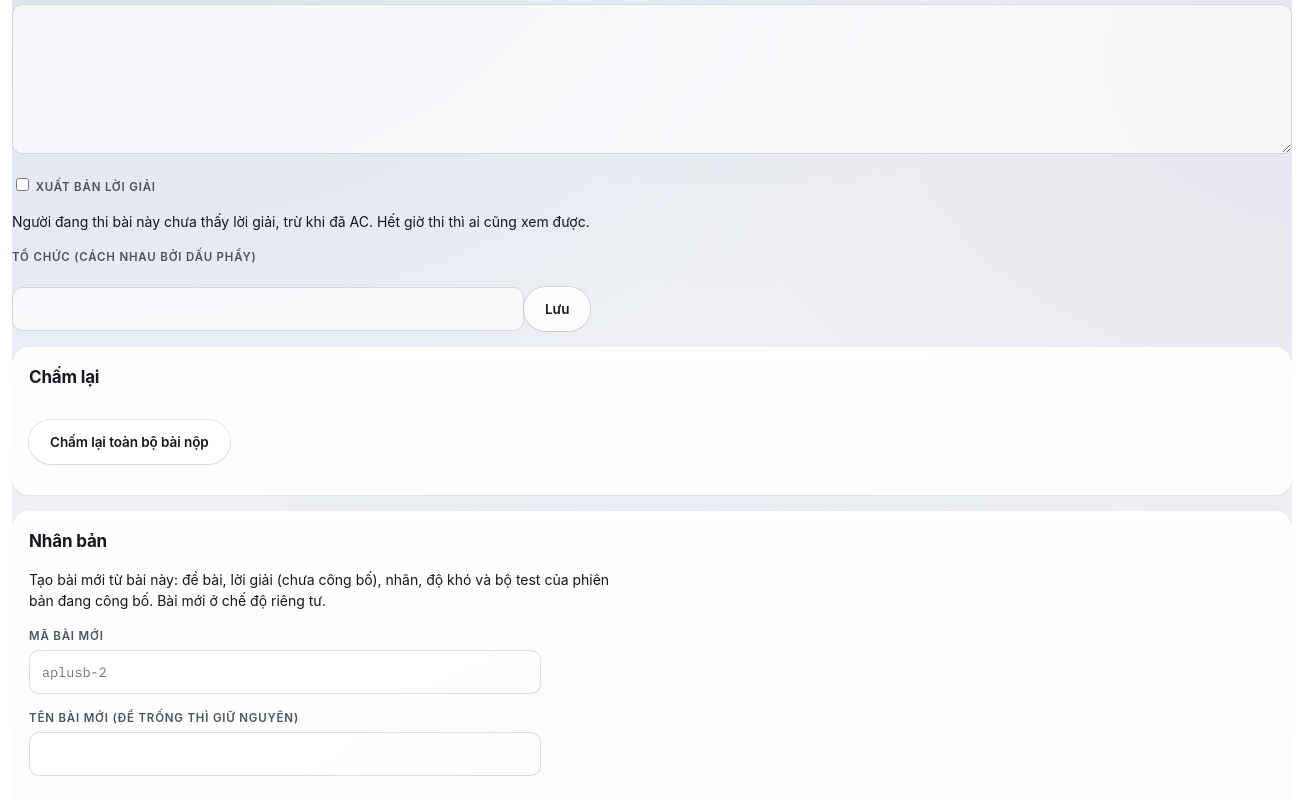
rejudging a problem's whole history › names the rated contests to re-rate beside the queued count (D21)
(page scrolled)
Click the button "Chấm lại toàn bộ bài nộp". click: point(129, 442)
box: [29,420,230,464]
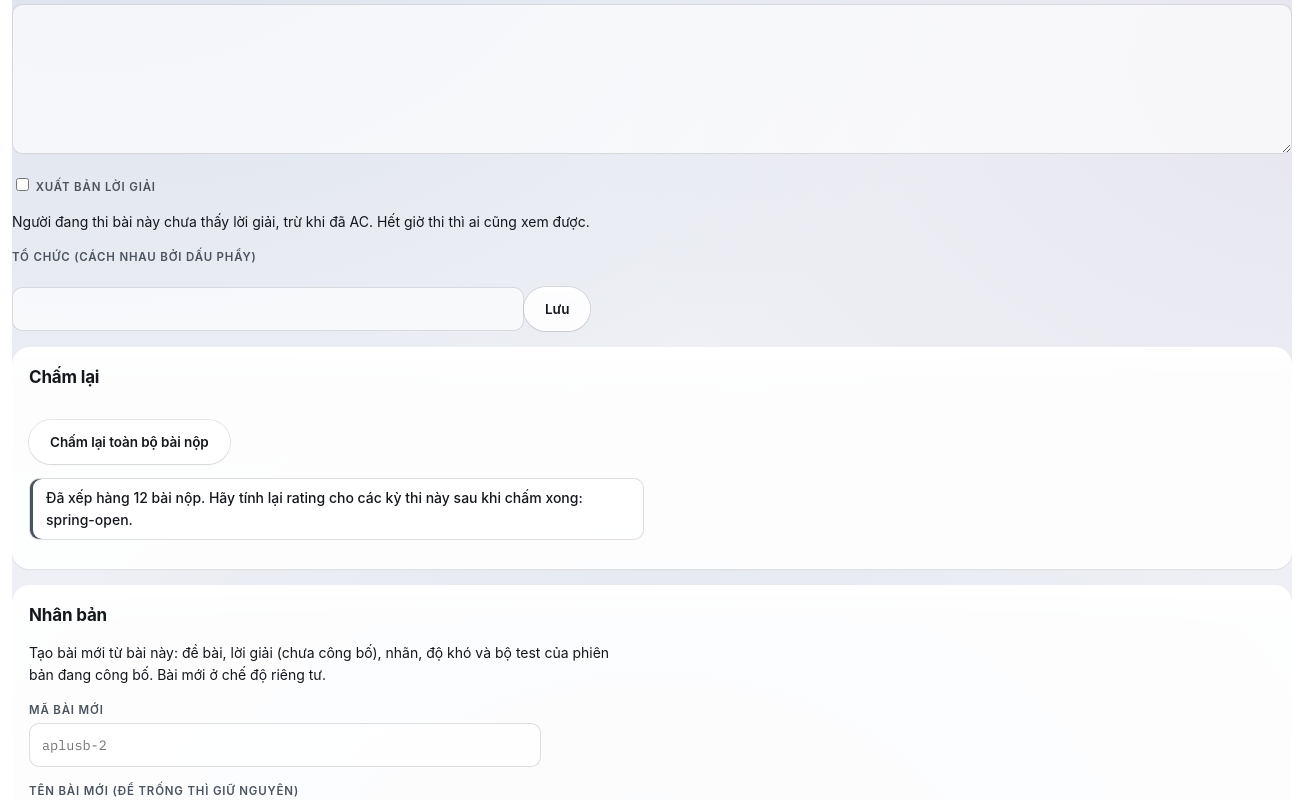
Expected: the message shows "Đã xếp hàng 12 bài nộp.", [46,489,205,506]
Expected: the message shows "Hãy tính lại rating cho các kỳ thi này sau khi chấm xong: spring-open.", [46,489,583,528]
